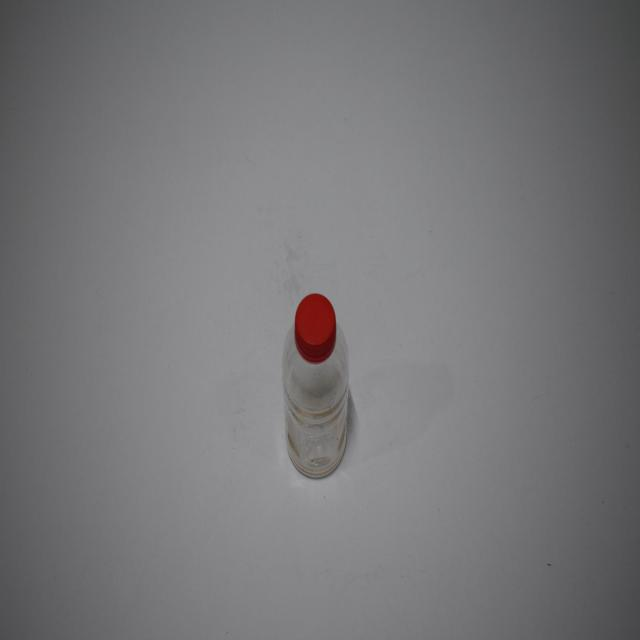bottle: (276, 288, 357, 496)
